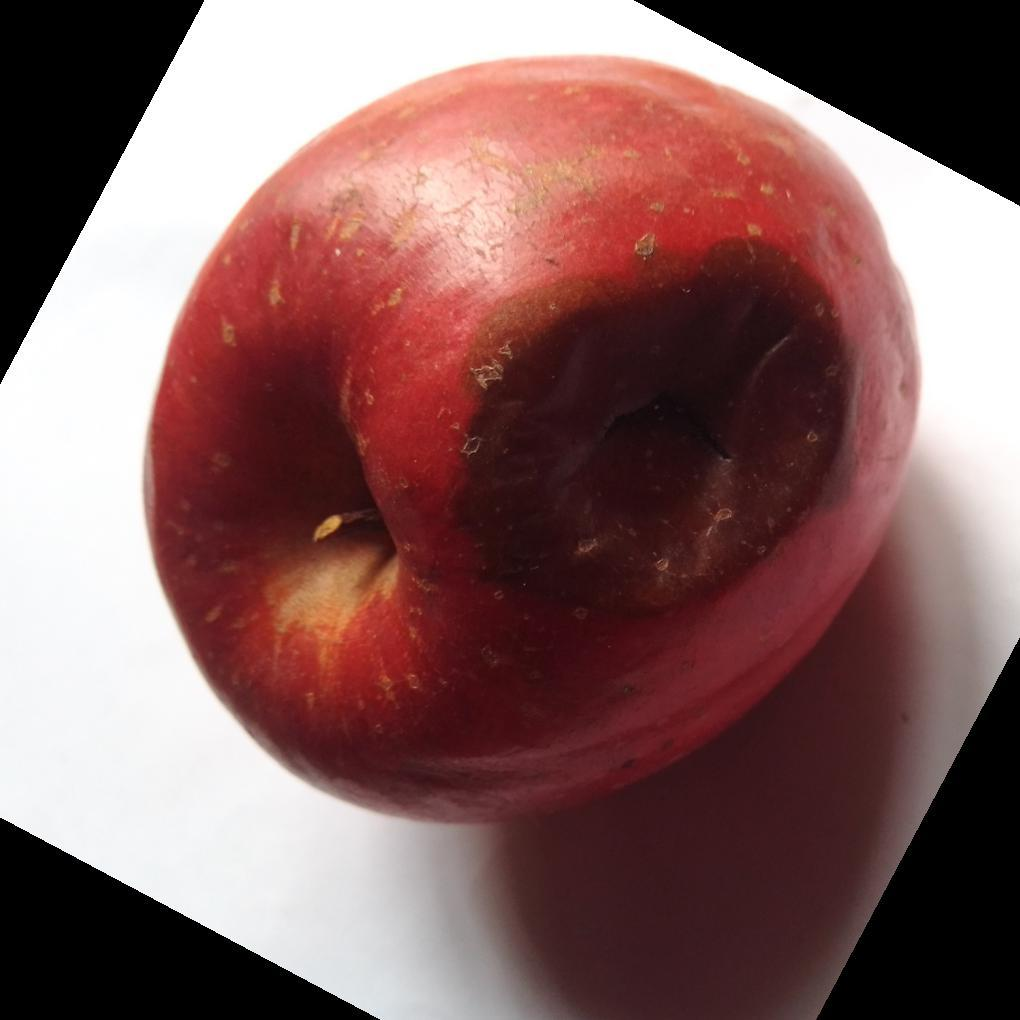FreshOrange: (138, 52, 927, 838)
